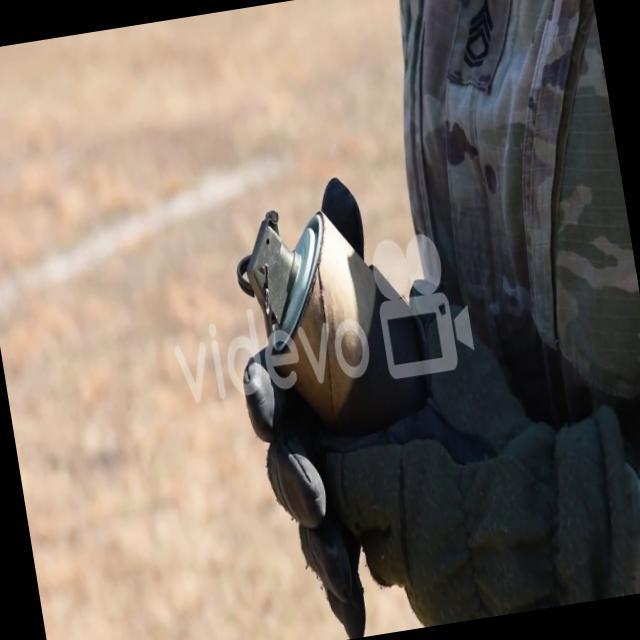grenade: (222, 182, 432, 454)
